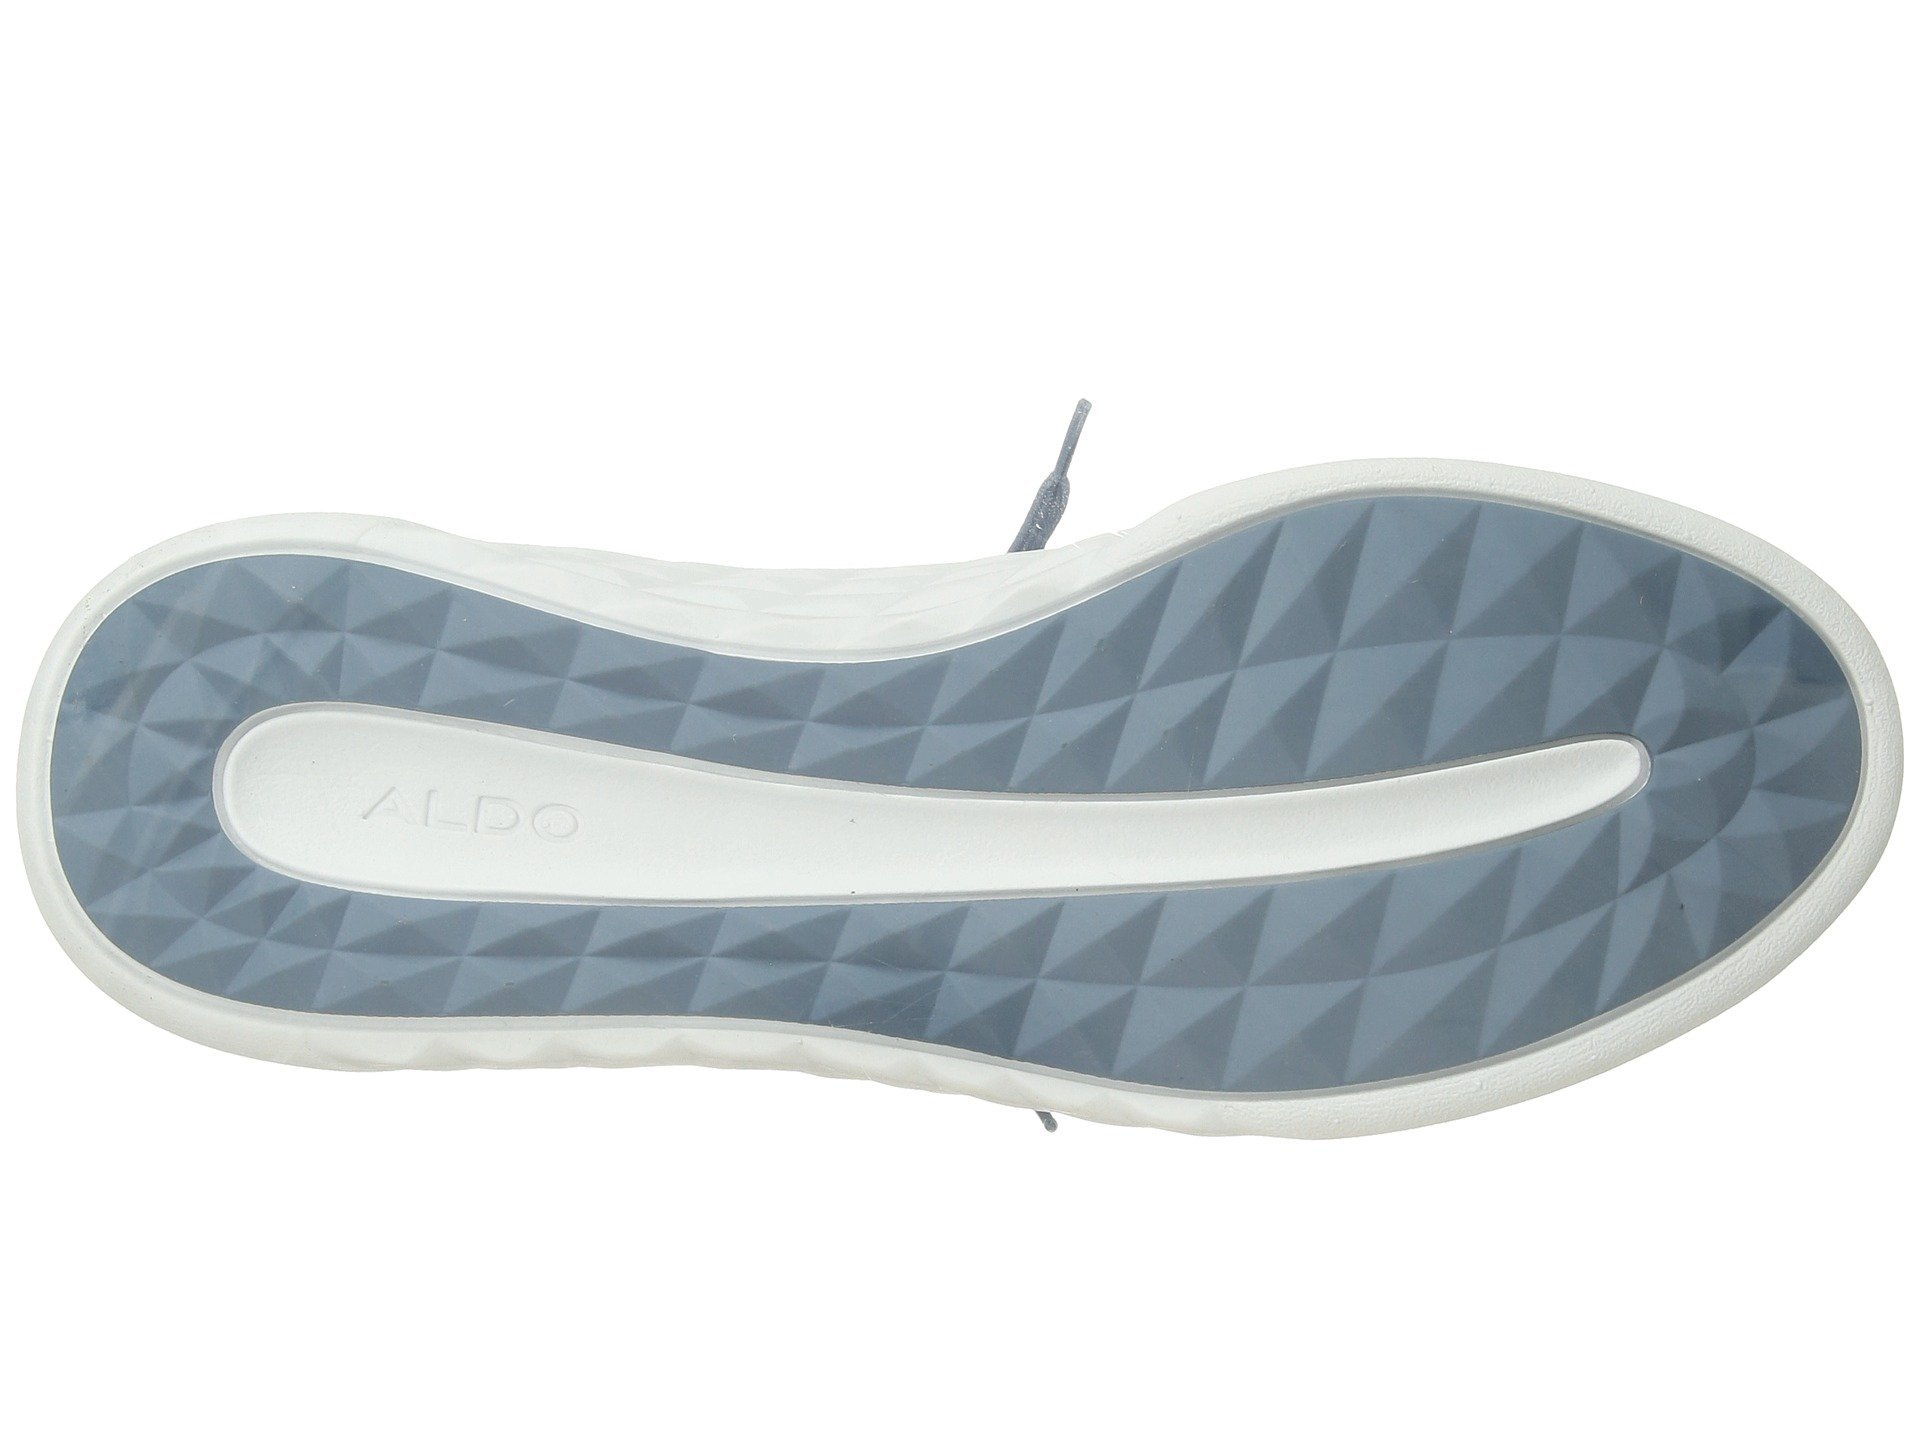chevron: (351, 743, 617, 861)
circle: (351, 743, 617, 861)
exclude: (989, 334, 1122, 545)
quad: (1178, 517, 1705, 715), (940, 895, 1578, 1041)
text: (351, 743, 617, 861)
triangle: (1178, 517, 1705, 715), (940, 895, 1578, 1041)
